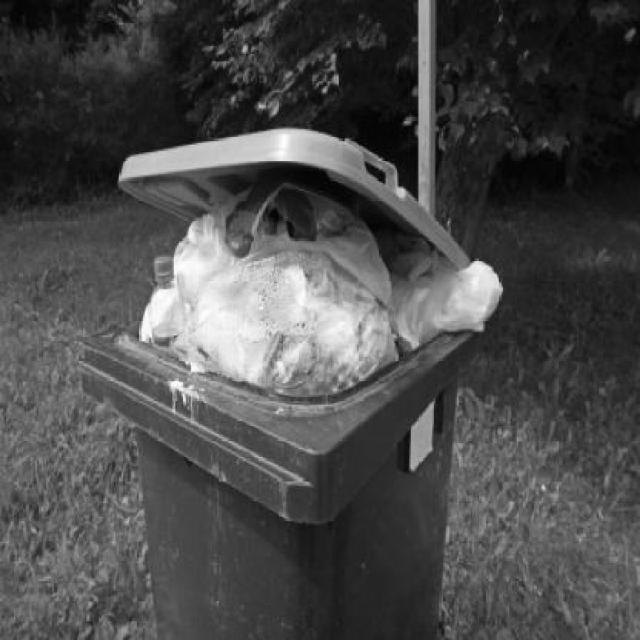garbage container: (86, 300, 494, 638)
